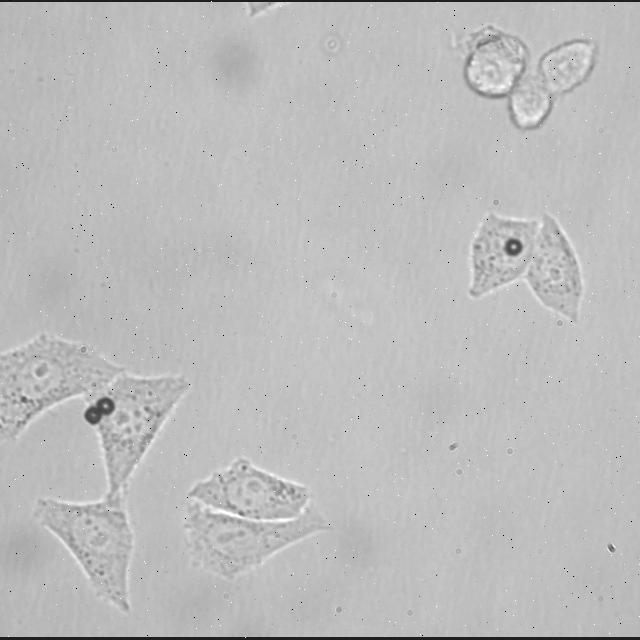microbeads: (504, 238, 524, 260), (76, 408, 100, 426), (96, 398, 115, 417)
